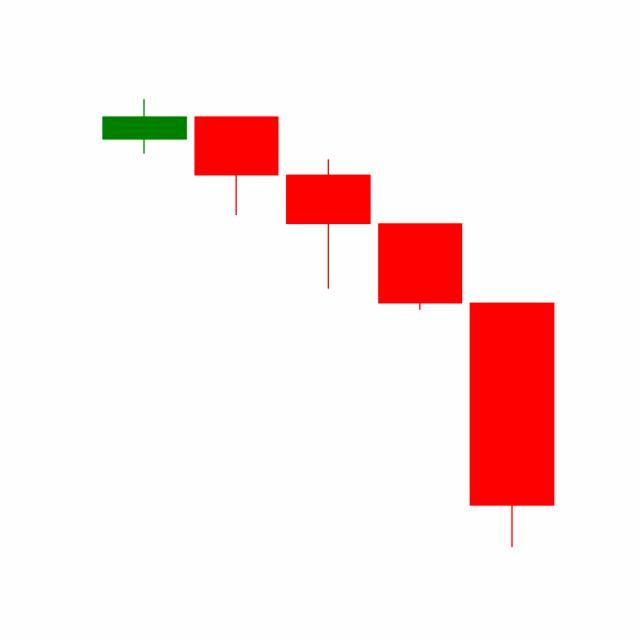Marubozu: (374, 223, 468, 312)
